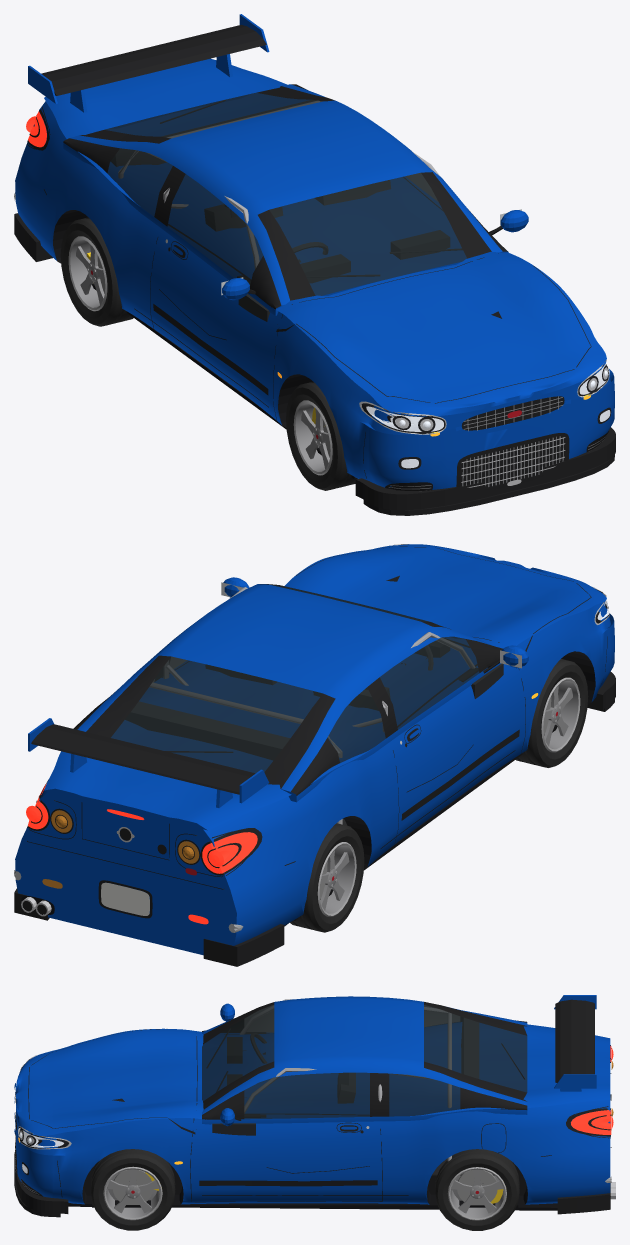
Rendered from skyline.glb.
3 renders of one model, top to bottom at view 1: azimuth 30°, elevation 25°; view 2: azimuth 150°, elevation 25°; view 3: azimuth 270°, elevation 25°, orthographic. The views are drawn at different scales.
Parts seen in each view (by area): view 1: SKY_Body, SKY_Cabin, SKY_Details_Front, SKY_Wing, SKY_Interior, SKY_Wheel_RR, SKY_Wheel_FR, SKY_Details_Sides, SKY_Details_Rear; view 2: SKY_Body, SKY_Cabin, SKY_Details_Rear, SKY_Interior, SKY_Wing, SKY_Wheel_RR, SKY_Wheel_FR, SKY_Details_Sides, SKY_Details_Front; view 3: SKY_Body, SKY_Cabin, SKY_Interior, SKY_Wheel_FL, SKY_Wheel_RL, SKY_Wing, SKY_Details_Front, SKY_Details_Sides, SKY_Details_Rear, SKY_Undertray.
Boxes of the visible parts, x1,y1,x2,y2 form: SKY_Body: (15, 58, 614, 489); SKY_Cabin: (63, 84, 508, 315); SKY_Details_Front: (276, 253, 615, 515); SKY_Wing: (28, 14, 269, 112); SKY_Interior: (92, 100, 449, 479); SKY_Wheel_RR: (60, 217, 133, 326); SKY_Wheel_FR: (286, 381, 357, 490); SKY_Details_Sides: (134, 177, 528, 420); SKY_Details_Rear: (14, 107, 52, 261); SKY_Body: (15, 544, 614, 955); SKY_Cabin: (73, 584, 502, 802); SKY_Details_Rear: (14, 779, 295, 966); SKY_Interior: (125, 587, 557, 920); SKY_Wing: (28, 718, 269, 807); SKY_Wheel_RR: (290, 823, 364, 932); SKY_Wheel_FR: (515, 659, 588, 767); SKY_Details_Sides: (162, 577, 528, 848); SKY_Details_Front: (296, 544, 615, 711); SKY_Body: (16, 1022, 610, 1204); SKY_Cabin: (202, 996, 527, 1124); SKY_Interior: (92, 999, 518, 1207); SKY_Wheel_FL: (91, 1149, 175, 1230); SKY_Wheel_RL: (435, 1149, 519, 1230); SKY_Wing: (554, 995, 596, 1091); SKY_Details_Front: (14, 1029, 197, 1217); SKY_Details_Sides: (190, 1003, 506, 1202); SKY_Details_Rear: (541, 1045, 615, 1214); SKY_Undertray: (68, 1195, 557, 1210).
Bounding box in the file's own units: 2.09 × 1.35 × 4.66.
